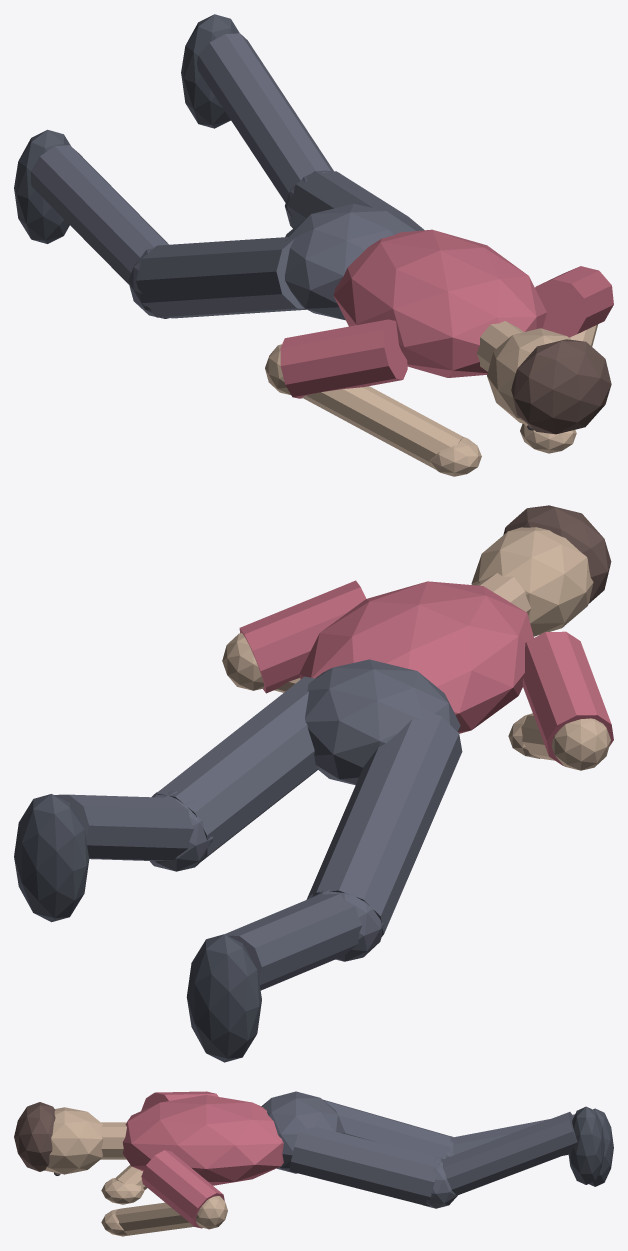
3 views of the same model, one above another, from view 1: azimuth 30°, elevation 25°; view 2: azimuth 150°, elevation 25°; view 3: azimuth 270°, elevation 25° (orthographic). The views are drawn at different scales.
Parts seen in each view (by area): view 1: world; view 2: world; view 3: world.
Boxes of the visible parts, bbox=[...] form: world: bbox=[14, 14, 613, 476]; world: bbox=[14, 505, 613, 1062]; world: bbox=[14, 1091, 613, 1236].
Size of the model in its own units: 0.93 by 0.5125 by 2.07.
